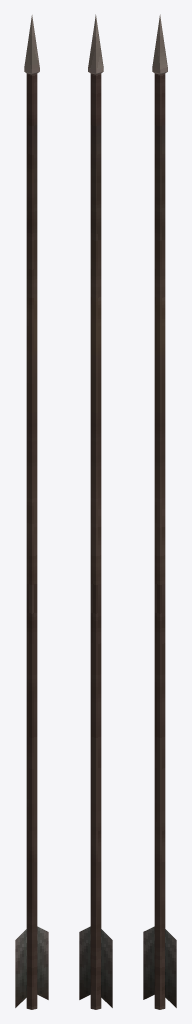
The model's file is field-arrow-weathered.glb.
3 views of the same model, side by side, from view 1: azimuth 30°, elevation 25°; view 2: azimuth 150°, elevation 25°; view 3: azimuth 330°, elevation 25° (orthographic).
Visible parts, largest first — view 1: field-arrow-weathered runtime mesh; view 2: field-arrow-weathered runtime mesh; view 3: field-arrow-weathered runtime mesh.
Boxes of the visible parts, x1,y1,x2,y2 form: field-arrow-weathered runtime mesh: [15, 15, 48, 1009]; field-arrow-weathered runtime mesh: [79, 14, 112, 1009]; field-arrow-weathered runtime mesh: [143, 14, 176, 1009].
Bounding box in the file's own units: 0.0252 × 0.72 × 0.0103.
Materials: 1 (1 with a texture image).
